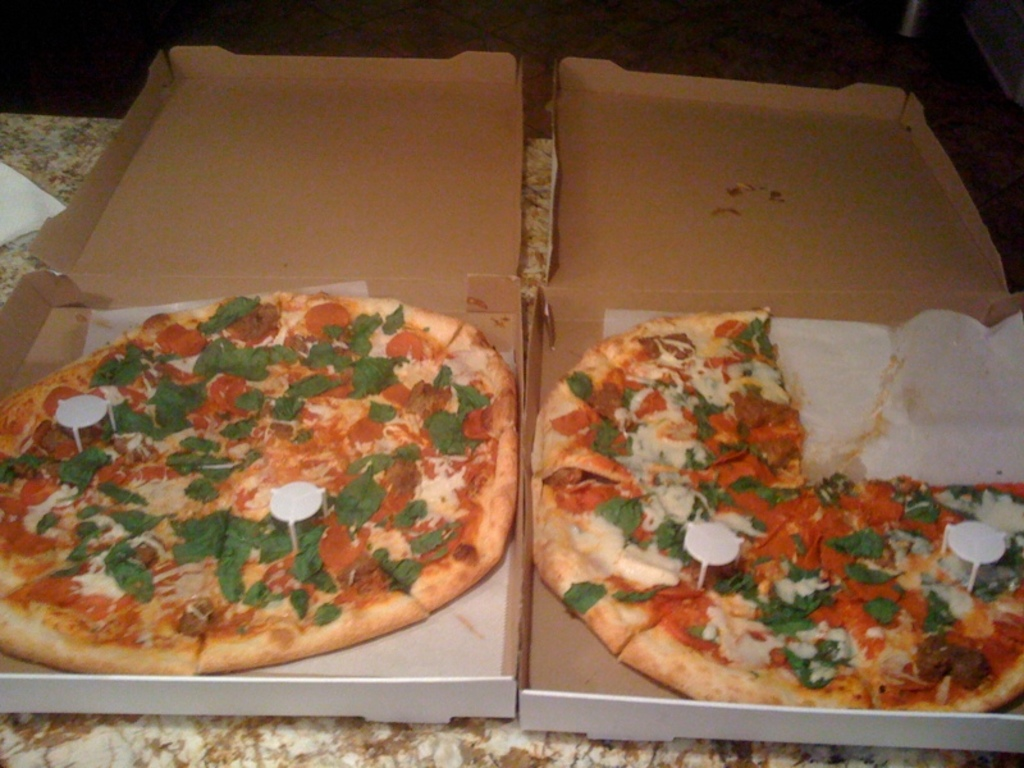Pizza: (3, 273, 524, 689), (523, 303, 1022, 712)
